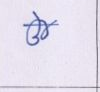e_matra: (30, 11, 48, 23)
